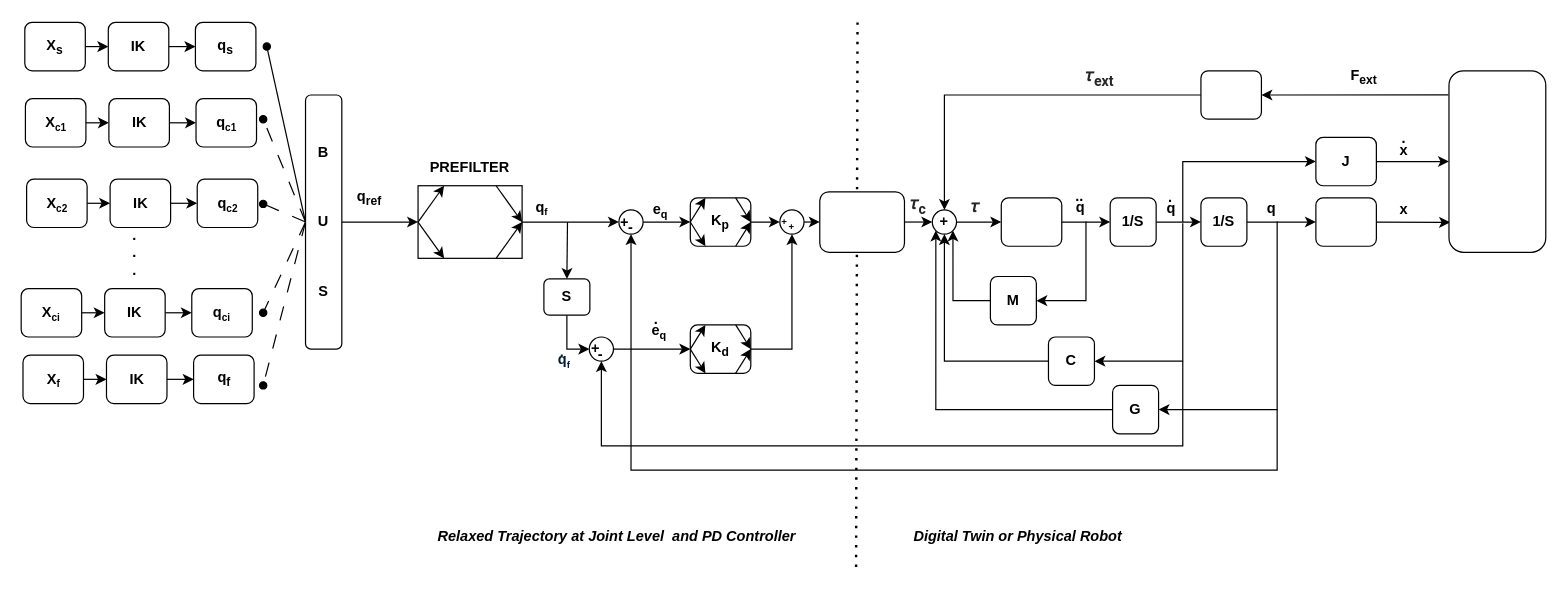
Image size: 1567x589. Some labels were removed from this diagram. The centre of each missing label's shape, as x and y in pixels:
Electronics and Actuator: the point at 861,221
External Environment: the point at 1497,161
FK: the point at 1345,221
J T: the point at 1230,94
Robot: the point at 1031,221
ω n, ζ: the point at 469,221
